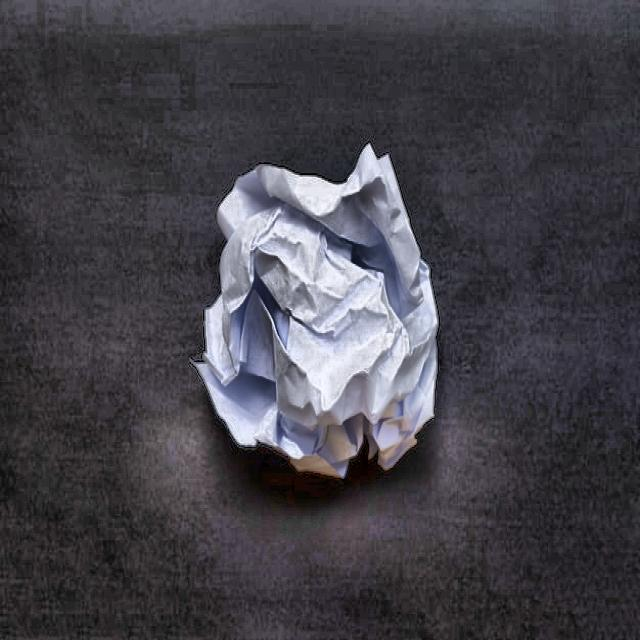Paper: (186, 116, 453, 494)
